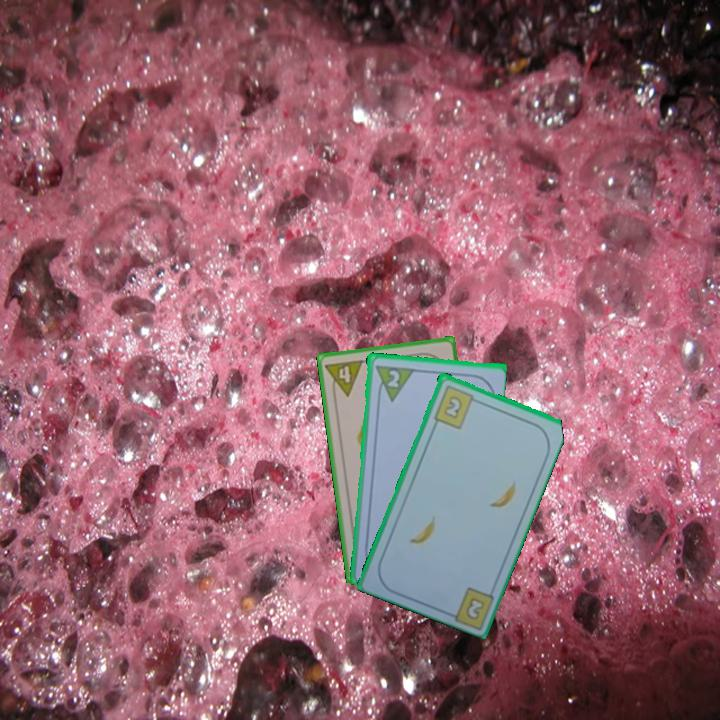2b: (430, 381, 482, 431), (462, 593, 487, 622)
2p: (371, 361, 415, 403)
4p: (322, 356, 366, 400)
